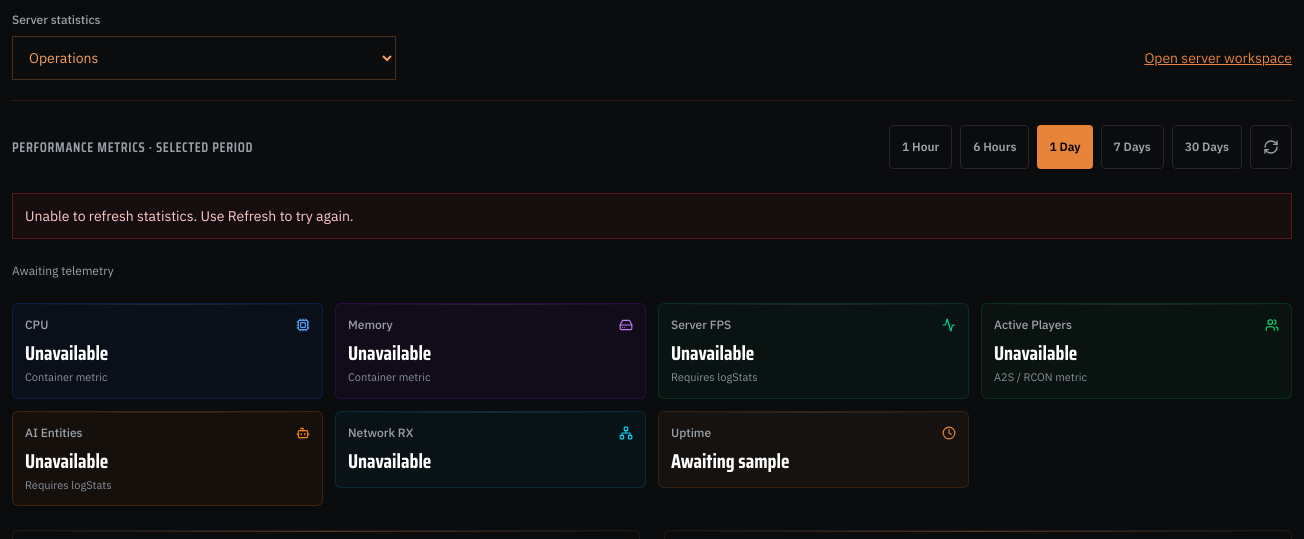
Test: failed metrics requests show an actionable error and recover on refresh
Expected: the message "Unable to refresh statistics. Use Refresh to try again." is shown, [12,193,1292,239]
Click the button named "Refresh" at (1271, 147), box [1250,125,1292,169]
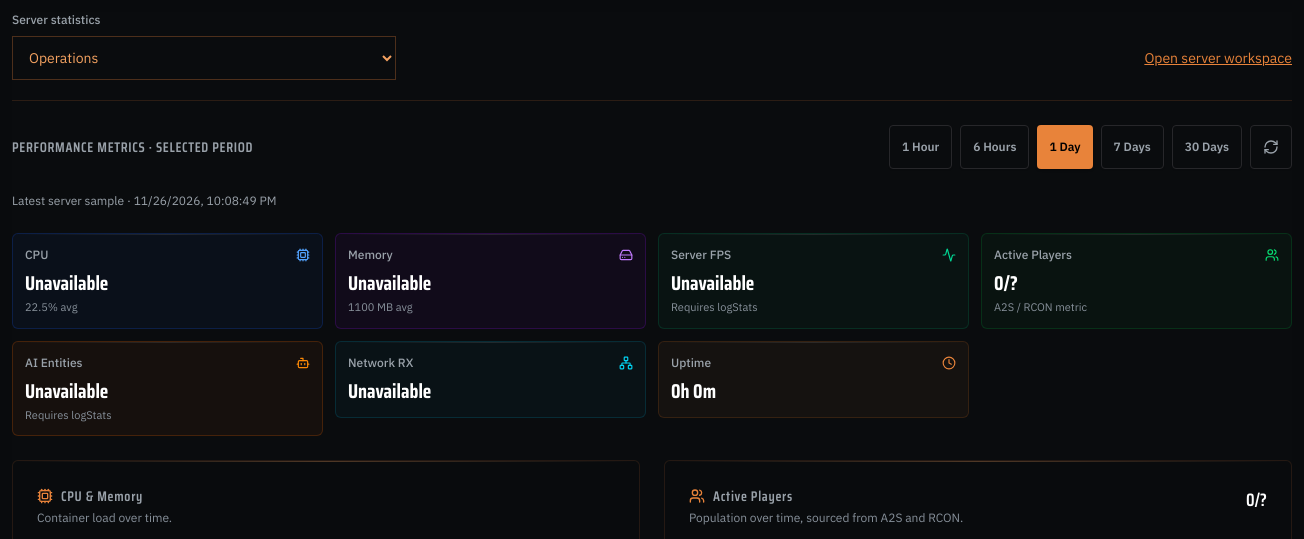
Expected: the text "0h 0m" is shown, [671,374,716,406]
Expected: the message "Unable to refresh statistics. Use Refresh to try again." is gone
